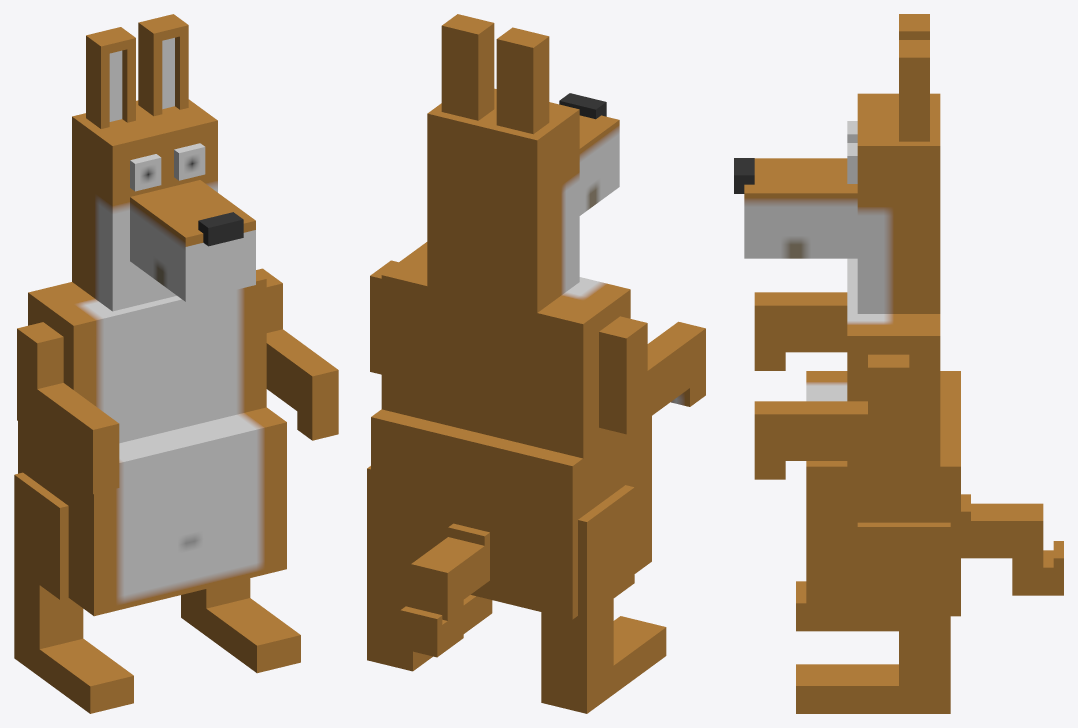
3 renders of one model, left to right at view 1: azimuth 30°, elevation 25°; view 2: azimuth 150°, elevation 25°; view 3: azimuth 270°, elevation 25°, orthographic. The views are drawn at different scales.
Visible parts, largest first — view 1: Matrix_1; view 2: Matrix_1; view 3: Matrix_1.
Part boxes in pixels (<box>): Matrix_1: <box>14,14,338,713</box>; Matrix_1: <box>367,14,705,713</box>; Matrix_1: <box>734,14,1063,713</box>.
Size of the model in its own units: 28 by 67 by 32.
1 material, 1 textured.
